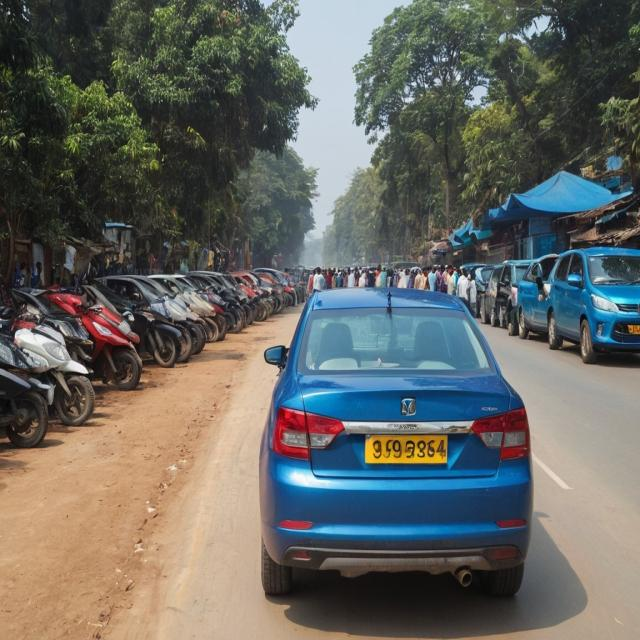blue: (247, 286, 547, 635), (550, 252, 640, 366)
